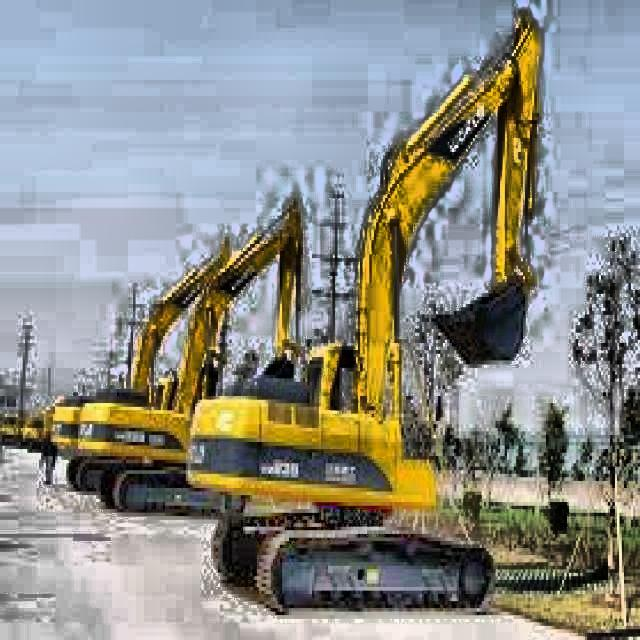bull_dozer/loader/grader: (184, 5, 544, 618), (75, 192, 308, 519), (52, 234, 234, 491)
person: (38, 426, 58, 488)
